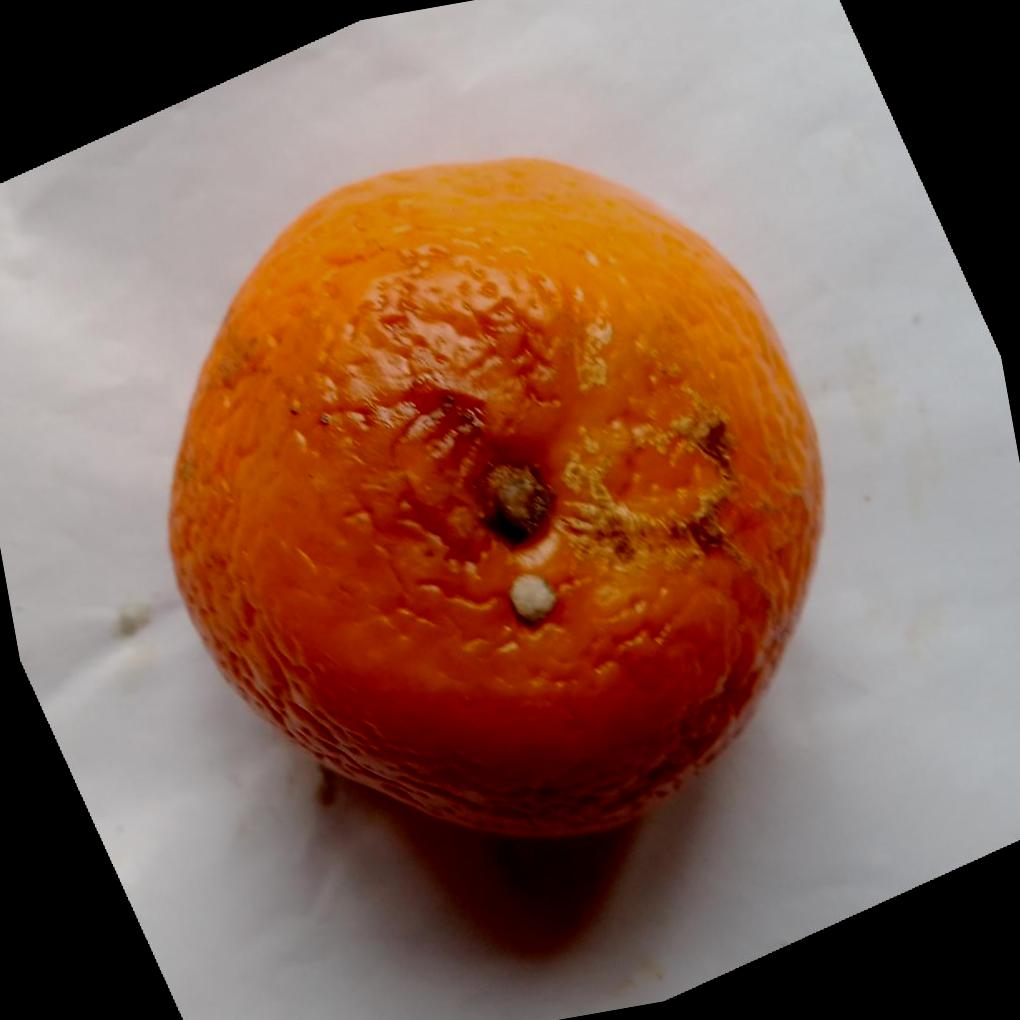FreshOrange: (163, 151, 824, 837)
